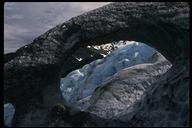rock: (5, 3, 190, 124)
sky: (8, 5, 44, 29)
snow: (67, 76, 90, 92)
